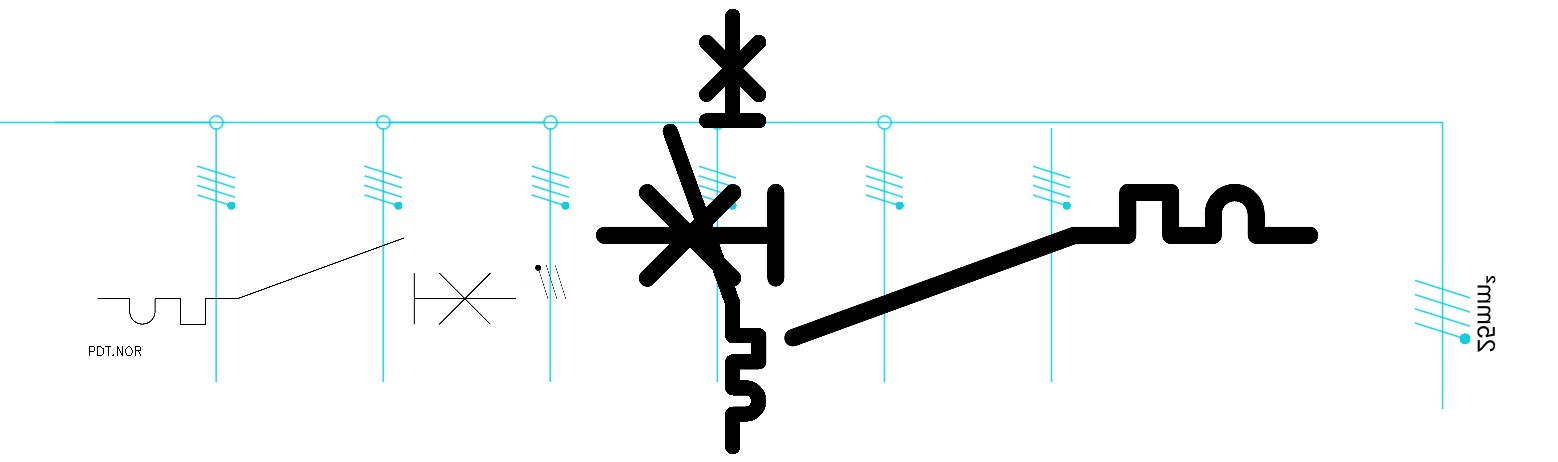interruptor_termomagnetico: (586, 174, 1328, 355), (659, 5, 770, 458), (87, 227, 527, 335)
